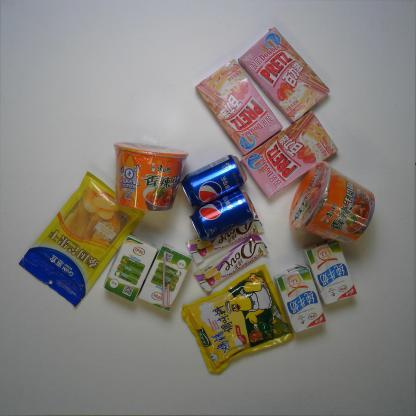Chocolate: (194, 236, 267, 292), (184, 214, 263, 263)
Dessert: (194, 57, 284, 156), (237, 111, 337, 198), (240, 26, 328, 122)
Dried Fruit: (17, 170, 146, 309)
Drink: (187, 188, 256, 242), (178, 156, 249, 206)
Instant Noodles: (289, 161, 376, 243), (110, 140, 188, 210)
Milk: (138, 245, 198, 312), (275, 264, 327, 334), (304, 237, 356, 305), (107, 234, 156, 303)
Seasoner: (180, 262, 294, 372)
